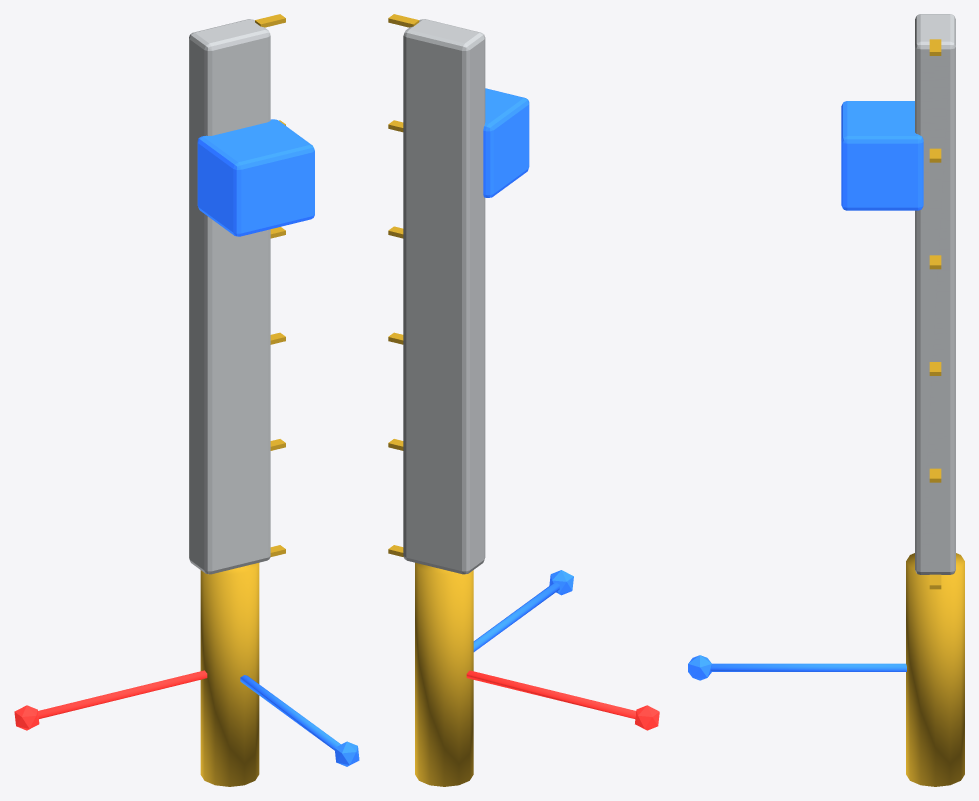
Rendered from SocketProbe.fbx.
The picture shows the model from 3 angles, left to right: view 1: azimuth 30°, elevation 25°; view 2: azimuth 150°, elevation 25°; view 3: azimuth 270°, elevation 25°; orthographic projection.
Visible parts, largest first — view 1: SocketProbe.Envelope_50cm, SocketProbe.Grip_50mm_diameter, SocketProbe.Front_notch, SocketProbe.Axis, SocketProbe.Axis.002; view 2: SocketProbe.Envelope_50cm, SocketProbe.Grip_50mm_diameter, SocketProbe.Front_notch, SocketProbe.Axis, SocketProbe.Axis.002, SocketProbe.Arrowhead; view 3: SocketProbe.Envelope_50cm, SocketProbe.Grip_50mm_diameter, SocketProbe.Front_notch, SocketProbe.Axis.002.
Part boxes in pixels (x1,y1,x2,y2): SocketProbe.Envelope_50cm: (189, 19, 270, 574); SocketProbe.Grip_50mm_diameter: (200, 563, 259, 786); SocketProbe.Front_notch: (197, 119, 314, 236); SocketProbe.Axis: (38, 670, 207, 718); SocketProbe.Axis.002: (240, 675, 340, 750); SocketProbe.Envelope_50cm: (403, 19, 485, 574); SocketProbe.Grip_50mm_diameter: (415, 562, 473, 786); SocketProbe.Front_notch: (483, 88, 529, 197); SocketProbe.Axis: (466, 670, 636, 718); SocketProbe.Axis.002: (473, 582, 559, 651); SocketProbe.Arrowhead: (635, 705, 659, 730); SocketProbe.Envelope_50cm: (915, 14, 955, 574); SocketProbe.Grip_50mm_diameter: (906, 553, 964, 786); SocketProbe.Front_notch: (841, 101, 923, 210); SocketProbe.Axis.002: (710, 663, 906, 671).
Size of the model in its own units: 0.2632 by 0.702 by 0.2352.
